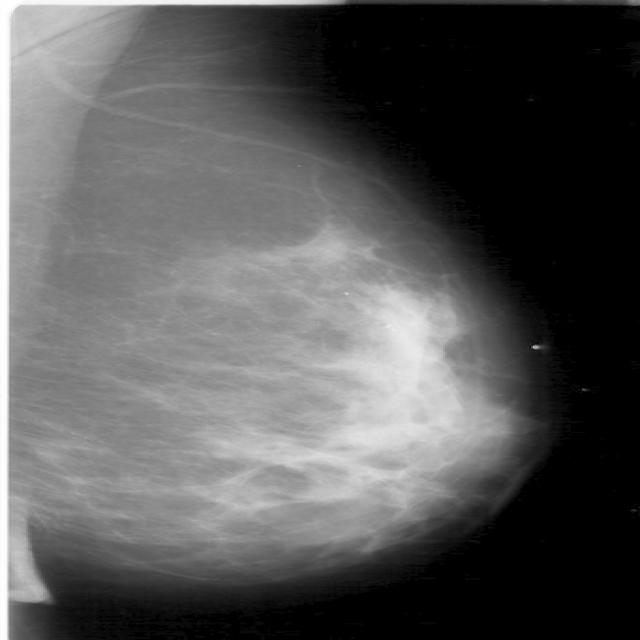tumour: (265, 217, 390, 272)
